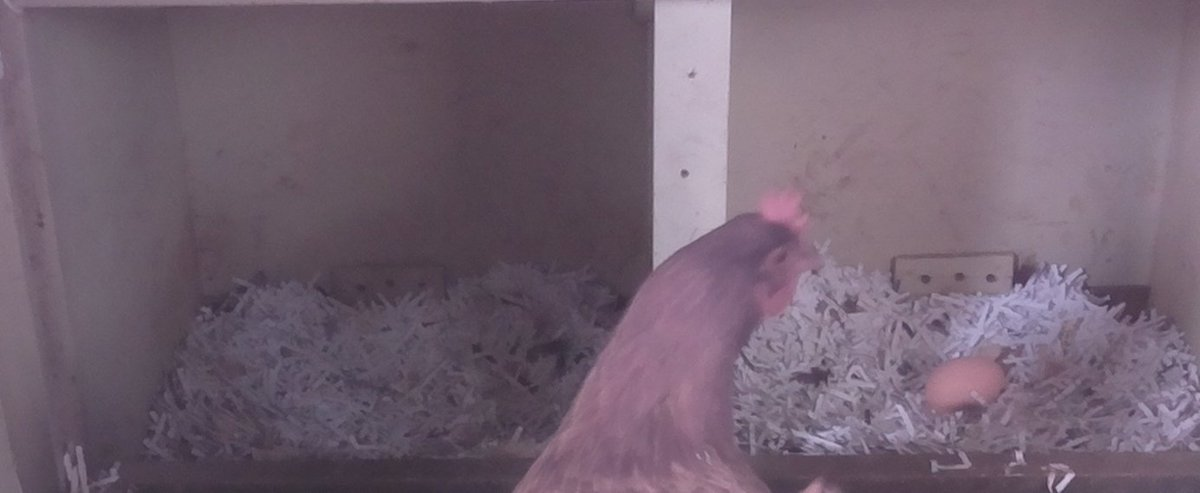egg: (919, 349, 1009, 419)
hen: (505, 184, 832, 493)
